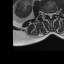CCS_normal: (49, 11, 52, 20)
LFS_stenosis: (54, 10, 55, 16)
LLS_normal: (52, 11, 53, 17)
RFS_stenosis: (45, 11, 47, 16)
RLS_stenosis: (47, 11, 49, 18)
